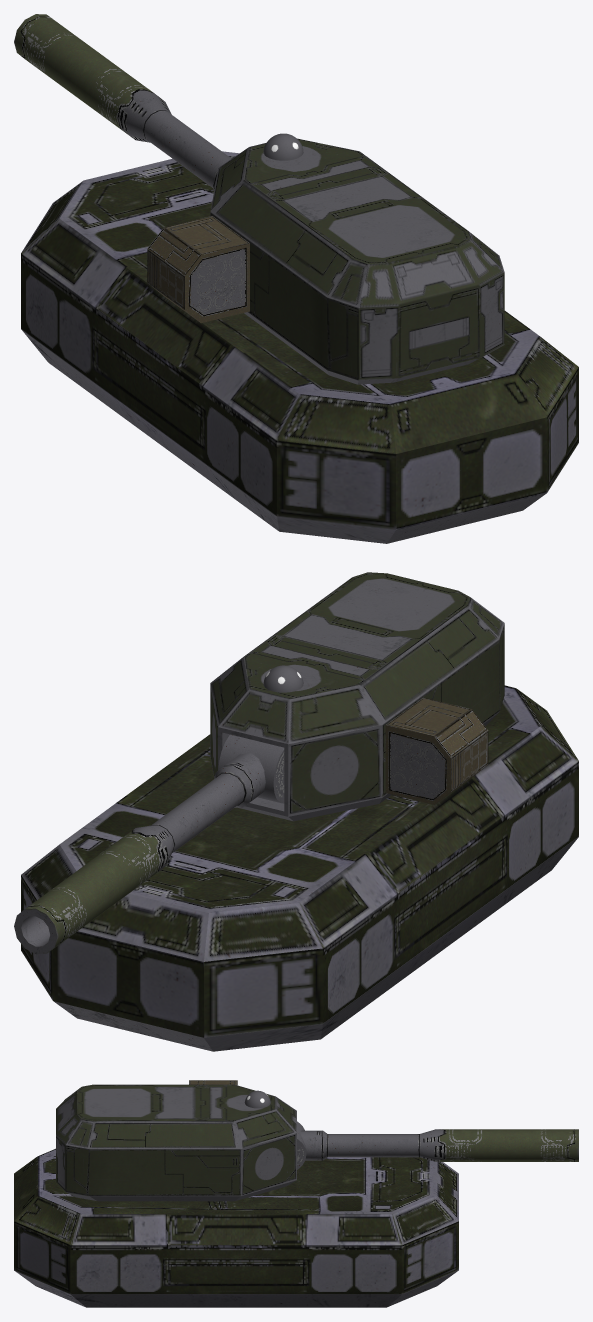
File: HoverTank.fbx
The picture shows the model from 3 angles, top to bottom: view 1: azimuth 30°, elevation 25°; view 2: azimuth 150°, elevation 25°; view 3: azimuth 270°, elevation 25°; orthographic projection. The views are drawn at different scales.
Visible parts, largest first — view 1: HoverTankBody, HoverTankBrain, HoverTankBarrel2, HoverTankMissileLauncher, Sensor; view 2: HoverTankBody, HoverTankBrain, HoverTankBarrel2, HoverTankMissileLauncher, Sensor; view 3: HoverTankBody, HoverTankBrain, HoverTankBarrel2, Sensor.
Boxes of the visible parts, x1,y1,x2,y2 form: HoverTankBody: (21, 151, 578, 543); HoverTankBrain: (210, 138, 504, 384); HoverTankBarrel2: (14, 14, 231, 189); HoverTankMissileLauncher: (147, 216, 249, 323); Sensor: (263, 133, 303, 160); HoverTankBody: (21, 685, 578, 1051); HoverTankBrain: (210, 572, 504, 821); HoverTankBarrel2: (14, 734, 284, 954); HoverTankMissileLauncher: (385, 697, 488, 804); Sensor: (263, 665, 303, 692); HoverTankBody: (14, 1148, 458, 1307); HoverTankBrain: (56, 1084, 296, 1201); HoverTankBarrel2: (297, 1121, 578, 1169); Sensor: (244, 1090, 270, 1108).
Size of the model in its own units: 0.4713 by 0.3965 by 1.18.
